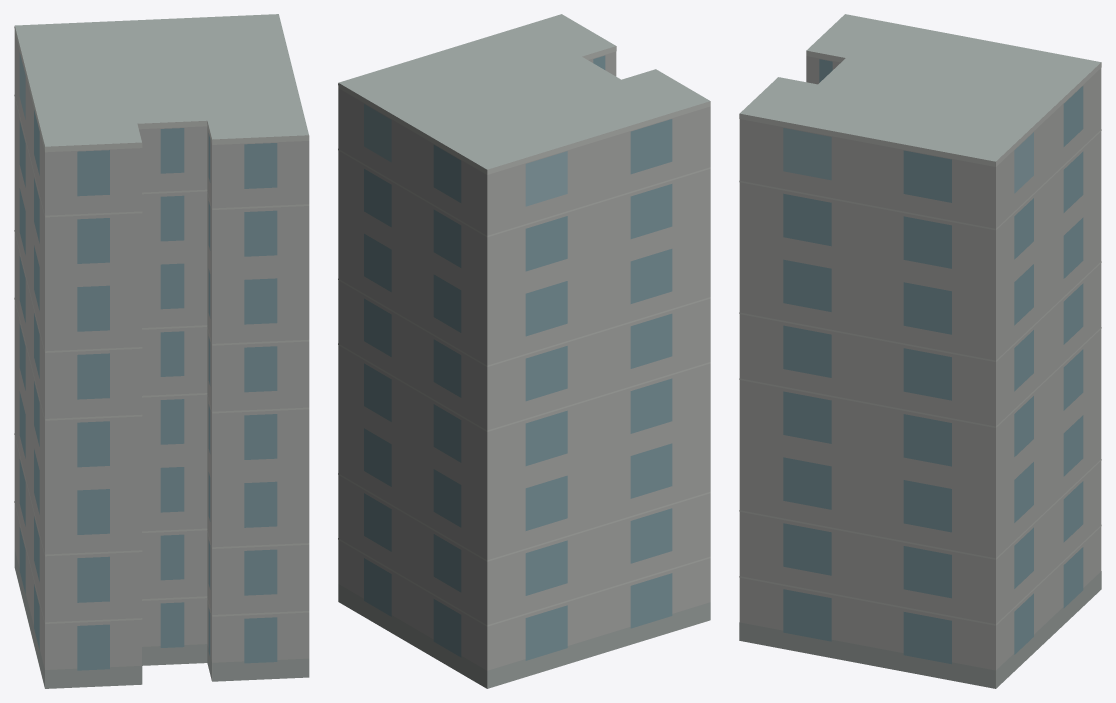
Rendered from survey-upis-32679585.glb.
The picture shows the model from 3 angles, left to right: view 1: azimuth 30°, elevation 25°; view 2: azimuth 150°, elevation 25°; view 3: azimuth 270°, elevation 25°; orthographic projection. The views are drawn at different scales.
Parts seen in each view (by area): view 1: survey-upis-32679585.tmp; view 2: survey-upis-32679585.tmp; view 3: survey-upis-32679585.tmp.
Boxes of the visible parts, left/top/right/bottom form: survey-upis-32679585.tmp: left=14, top=14, right=309, bottom=688; survey-upis-32679585.tmp: left=338, top=14, right=710, bottom=688; survey-upis-32679585.tmp: left=739, top=14, right=1101, bottom=688.
Bounding box in the file's own units: 14.32 × 23.8 × 14.83.
